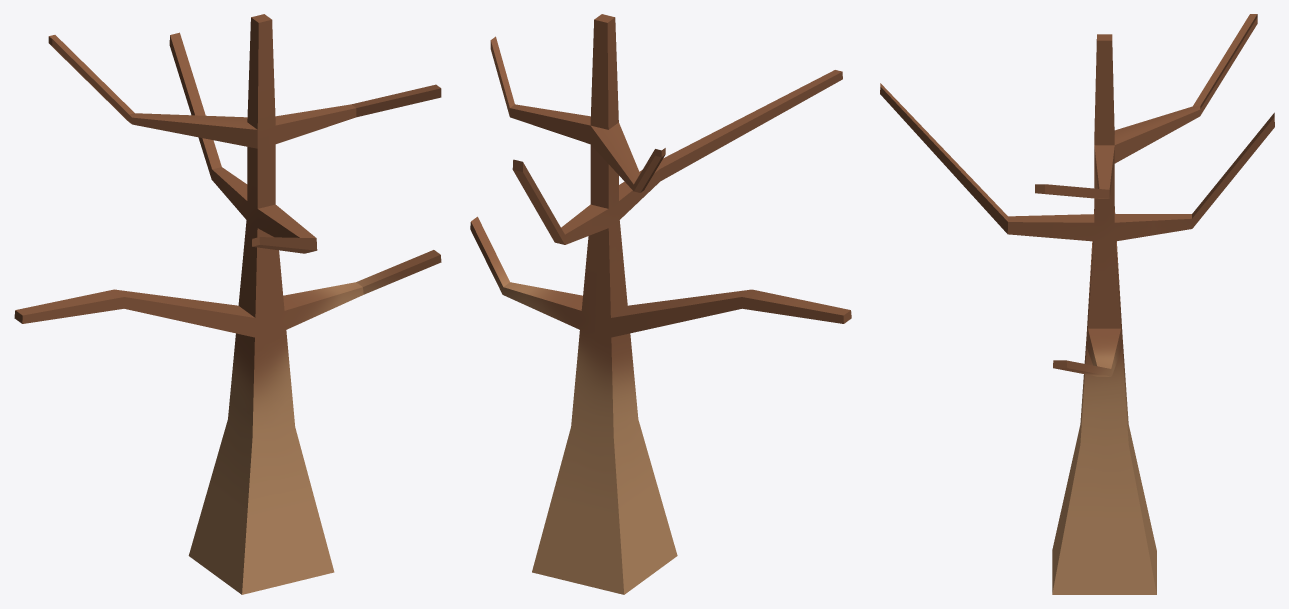
File: tree.fbx
3 renders of one model, left to right at view 1: azimuth 30°, elevation 25°; view 2: azimuth 150°, elevation 25°; view 3: azimuth 270°, elevation 25°, orthographic.
Parts seen in each view (by area): view 1: Cube.055; view 2: Cube.055; view 3: Cube.055.
Boxes of the visible parts, bbox=[...] form: Cube.055: bbox=[14, 14, 441, 594]; Cube.055: bbox=[470, 14, 851, 594]; Cube.055: bbox=[880, 14, 1274, 594].
Size of the model in its own units: 196 by 257 by 172.
Materials: 1 (1 with a texture image).
